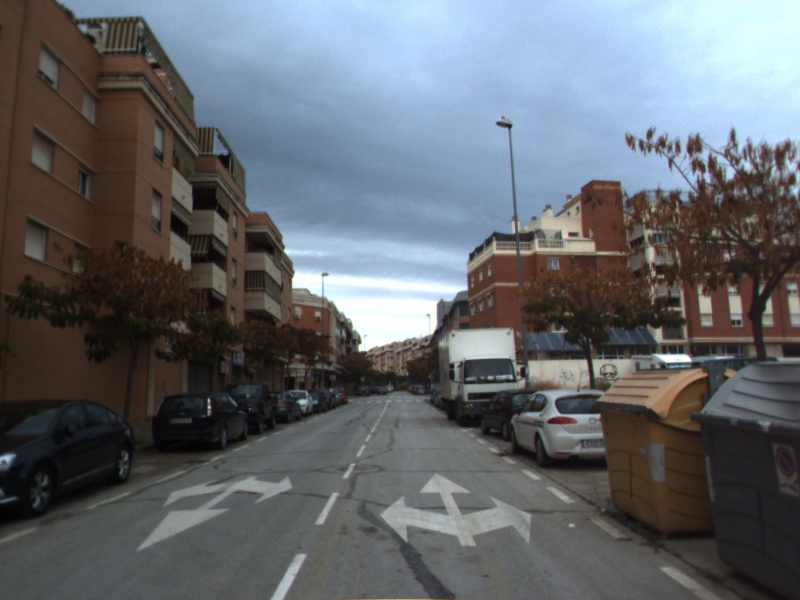STRAIGHT_LEFT_RIGHT: (377, 471, 534, 548)
